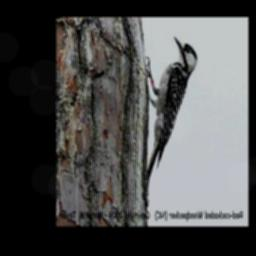Woodpecker: (143, 36, 199, 196)
